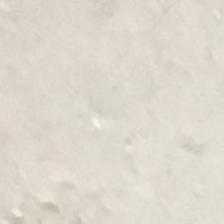Non_Crack: (23, 36, 221, 198)
